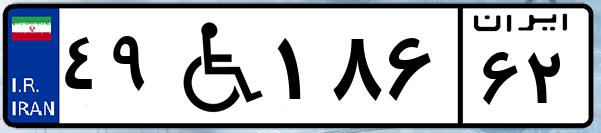1: (270, 28, 330, 110)
2: (525, 38, 570, 115)
4: (57, 26, 110, 100)
6: (385, 28, 445, 110), (475, 38, 525, 113)
8: (330, 28, 385, 110)
9: (110, 28, 158, 98)
ژ (معلولین و جانبازان): (158, 12, 270, 120)
